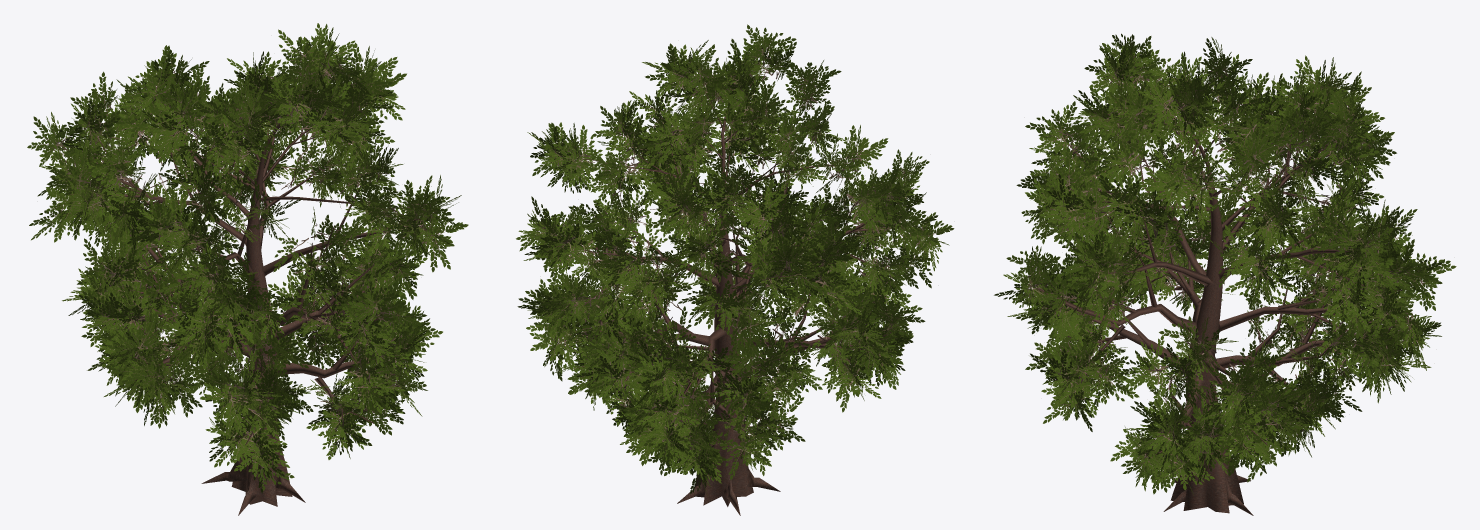
Rendered from birch-green-balanced.gltf.
The picture shows the model from 3 angles, left to right: view 1: azimuth 30°, elevation 25°; view 2: azimuth 150°, elevation 25°; view 3: azimuth 270°, elevation 25°; orthographic projection. The views are drawn at different scales.
Parts seen in each view (by area): view 1: Sweet Birch balanced Green; view 2: Sweet Birch balanced Green; view 3: Sweet Birch balanced Green.
Boxes of the visible parts, bbox=[...] form: Sweet Birch balanced Green: bbox=[27, 23, 468, 515]; Sweet Birch balanced Green: bbox=[516, 24, 954, 515]; Sweet Birch balanced Green: bbox=[994, 33, 1456, 515].
Size of the model in its own units: 479 by 560 by 514.
2 materials, 2 textured.
